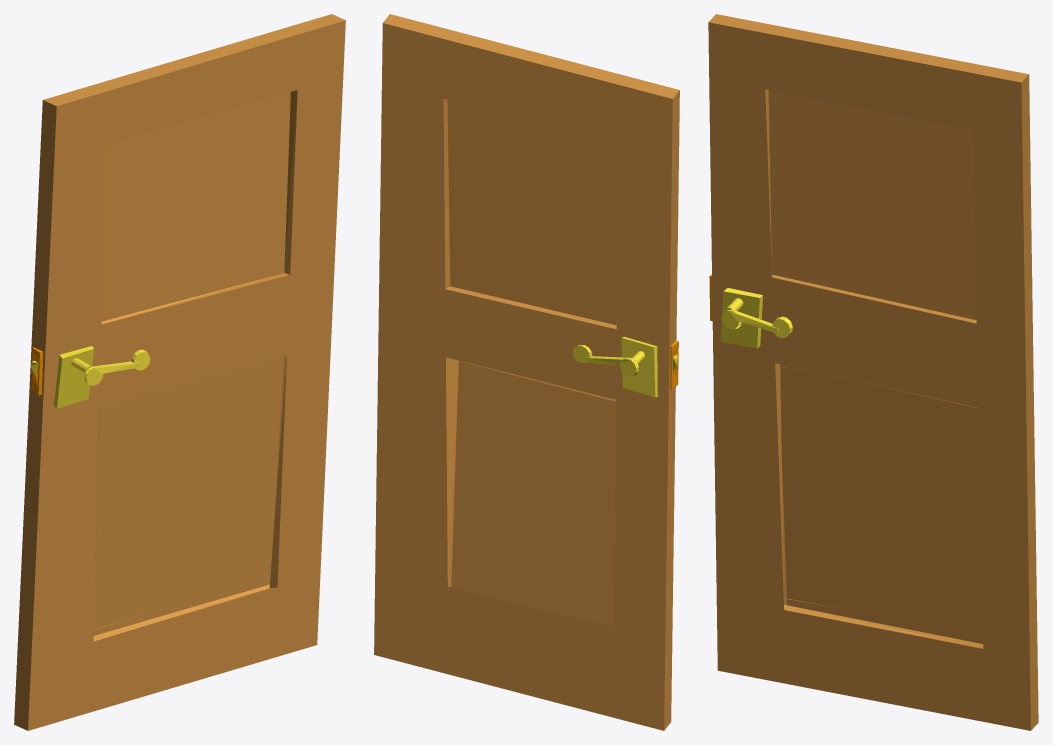
File: door.glb
The picture shows the model from 3 angles, left to right: view 1: azimuth 30°, elevation 25°; view 2: azimuth 150°, elevation 25°; view 3: azimuth 330°, elevation 25°; orthographic projection. The views are drawn at different scales.
Visible parts, largest first — view 1: group1868732203, group1175985268; view 2: group1868732203, group920554896; view 3: group1868732203, group1175985268.
Part boxes in pixels (x1=…): group1868732203: x1=14, y1=14, x2=345, y2=730; group1175985268: x1=54, y1=346, x2=94, y2=408; group1868732203: x1=374, y1=14, x2=679, y2=730; group920554896: x1=621, y1=336, x2=657, y2=397; group1868732203: x1=708, y1=14, x2=1038, y2=730; group1175985268: x1=720, y1=288, x2=762, y2=348.
Size of the model in its own units: 3.93 by 7.91 by 0.9698.
